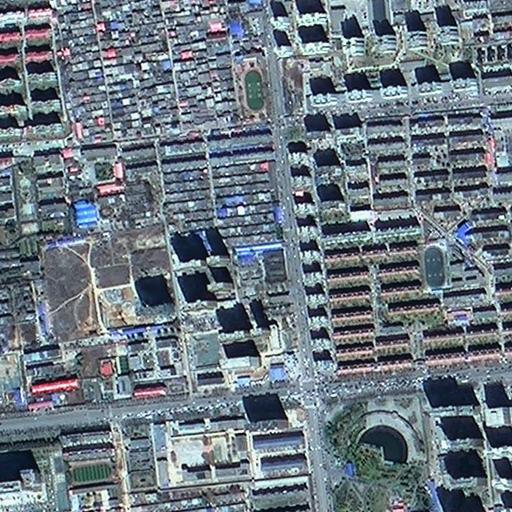school: (423, 235, 485, 293), (64, 459, 120, 512), (233, 48, 270, 123)
